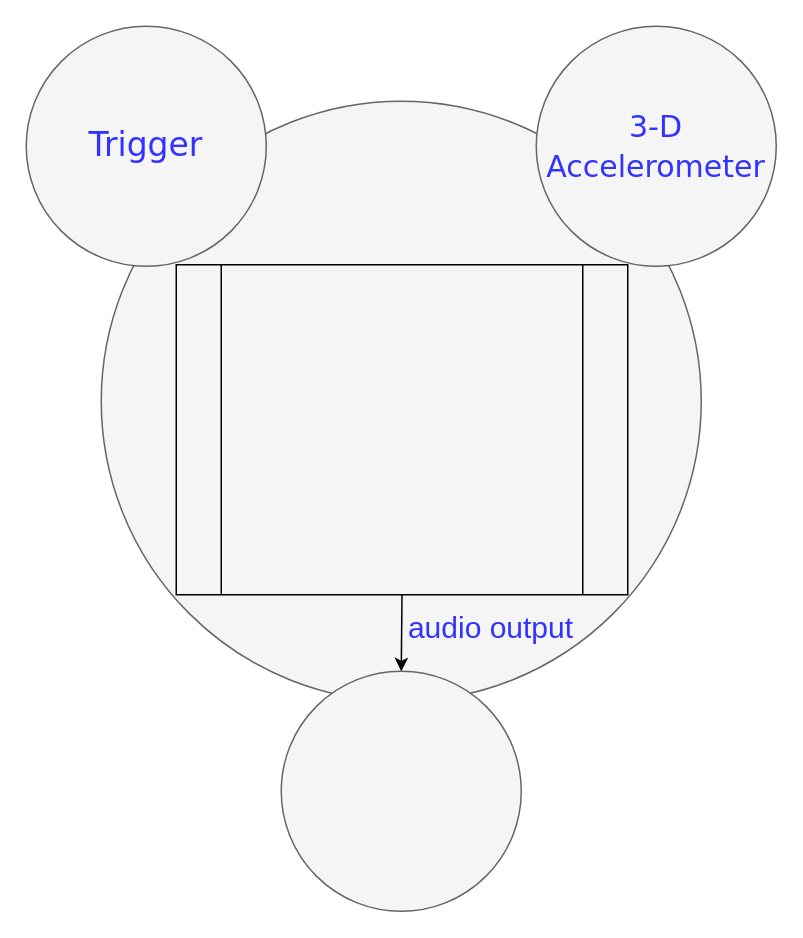
This 803x938 diagram has some shape labels left out. Each missing label, with the box of its shape:
3" Speaker: (280, 670, 521, 911)
Bela Pure Data (Audio Engine): (100, 100, 701, 701)
